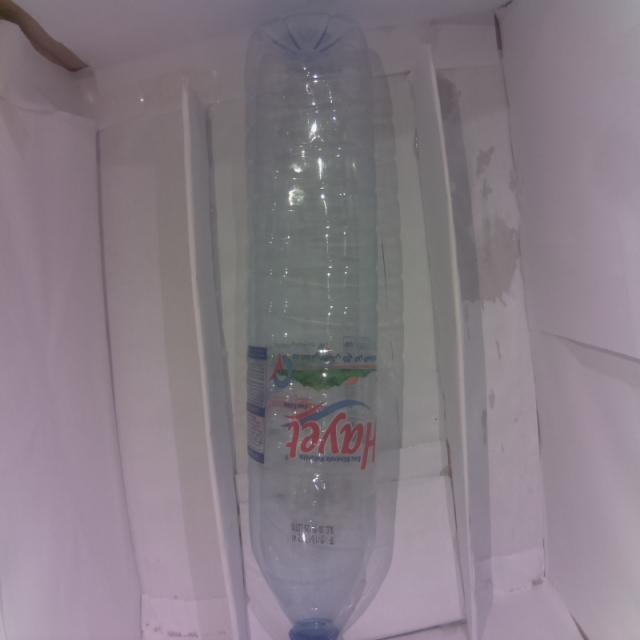blue: (248, 14, 382, 624)
